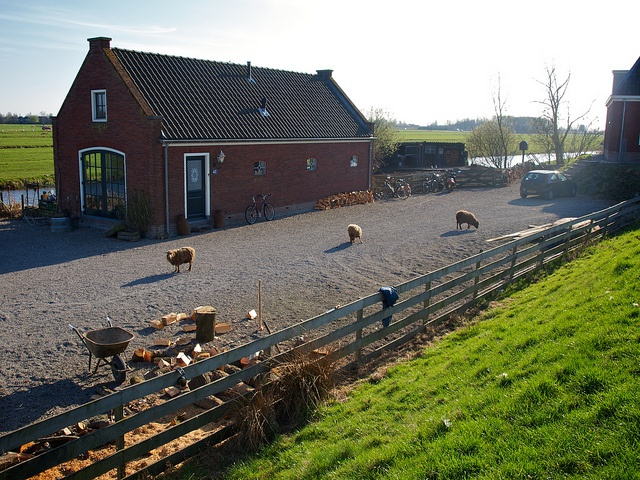non-vehicle: (244, 193, 275, 224), (381, 178, 410, 200), (423, 172, 438, 191)
